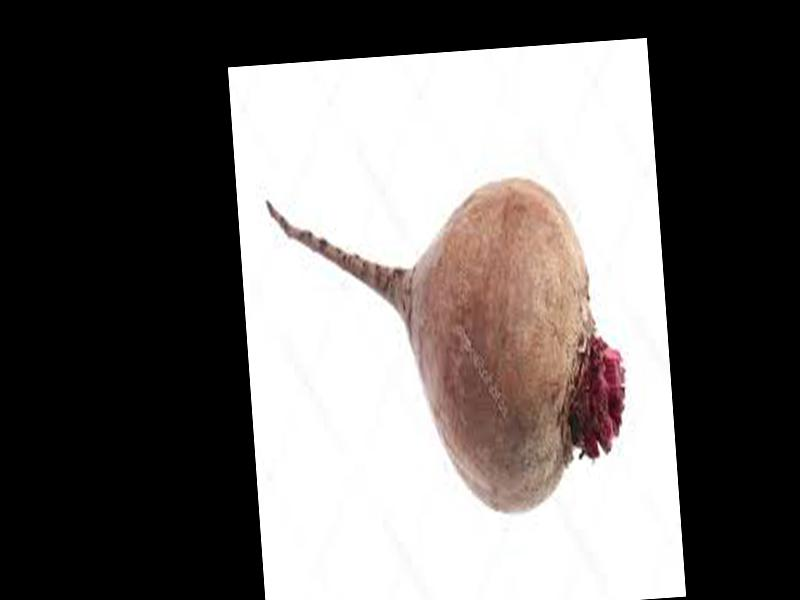Beet: (265, 171, 632, 535)
